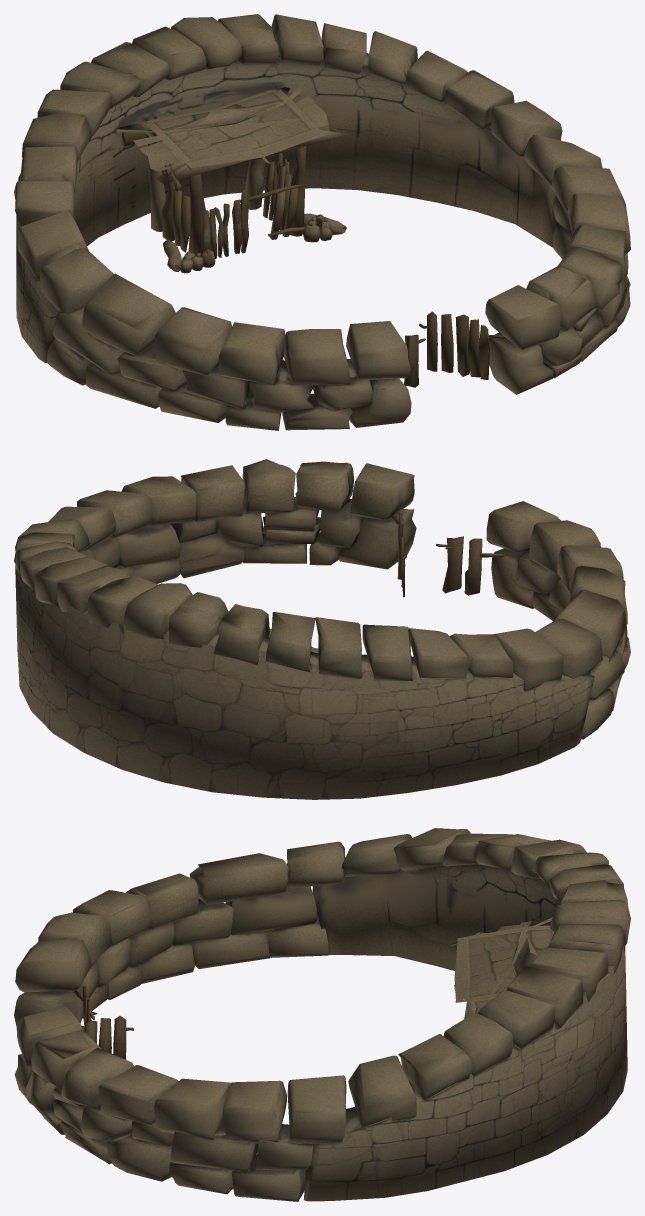
File: agil.glb
3 renders of one model, top to bottom at view 1: azimuth 30°, elevation 25°; view 2: azimuth 150°, elevation 25°; view 3: azimuth 270°, elevation 25°, orthographic.
Bounding box in the file's own units: 0.9609 × 0.2998 × 0.9326.
1 material, 1 textured.
